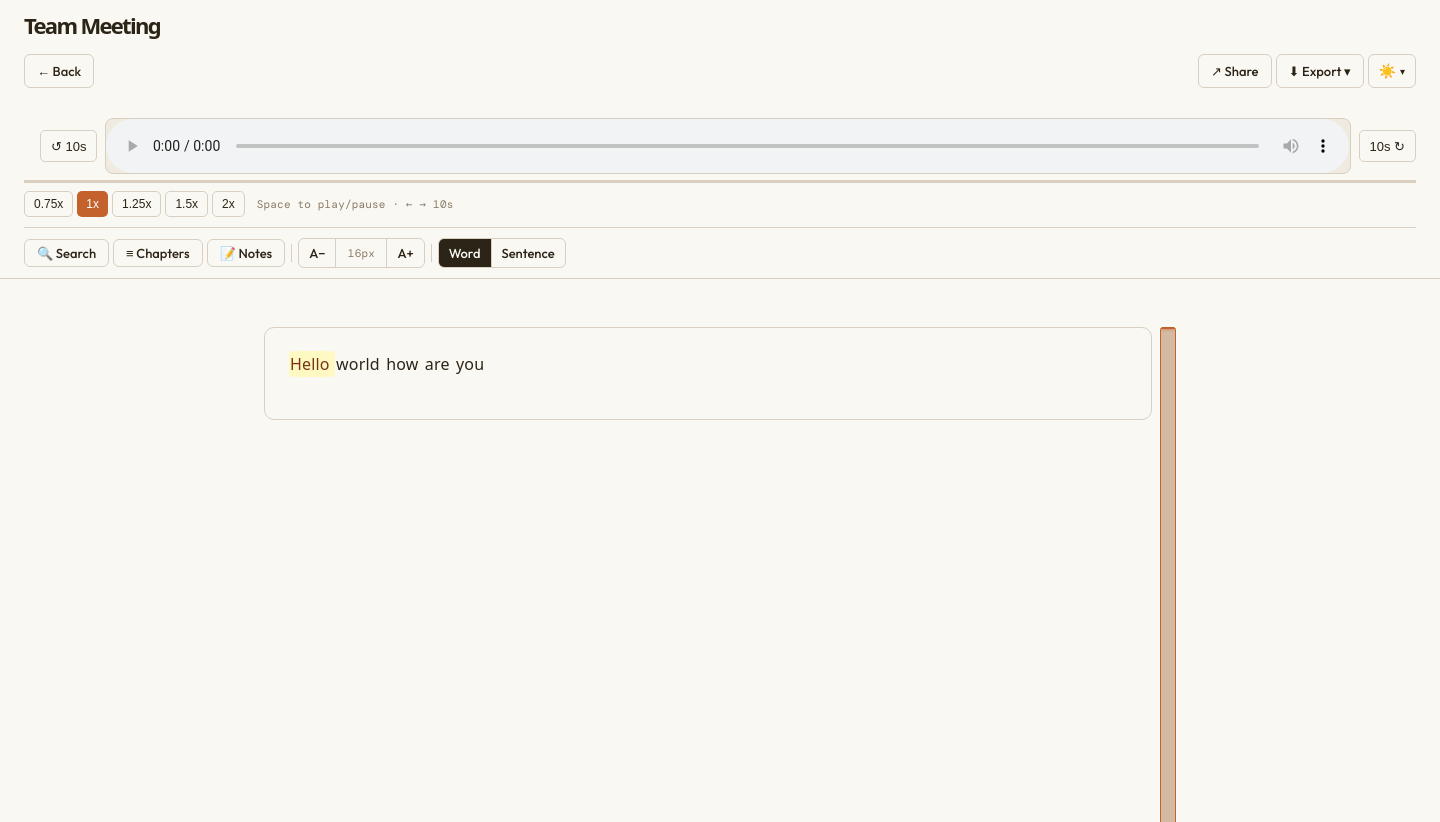
Test: search finds matching words
Check: the text "Hello" is shown, box [289,351,335,377]
Click the button "🔍 Search" at (67, 253), box [24,239,109,267]
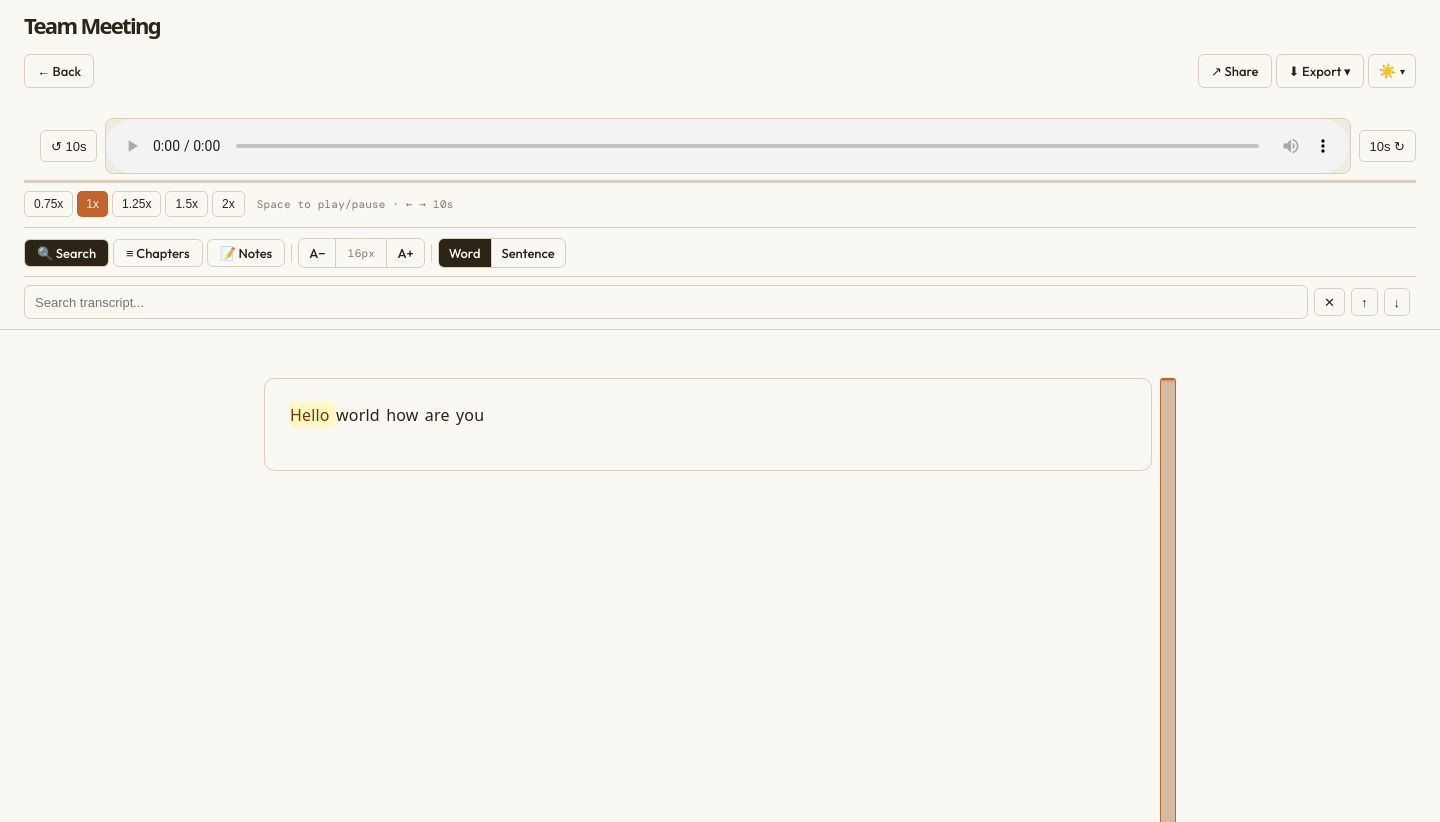
Type "hello" into the field with placeholder "Search transcript..." at (666, 302), box [24,285,1308,319]
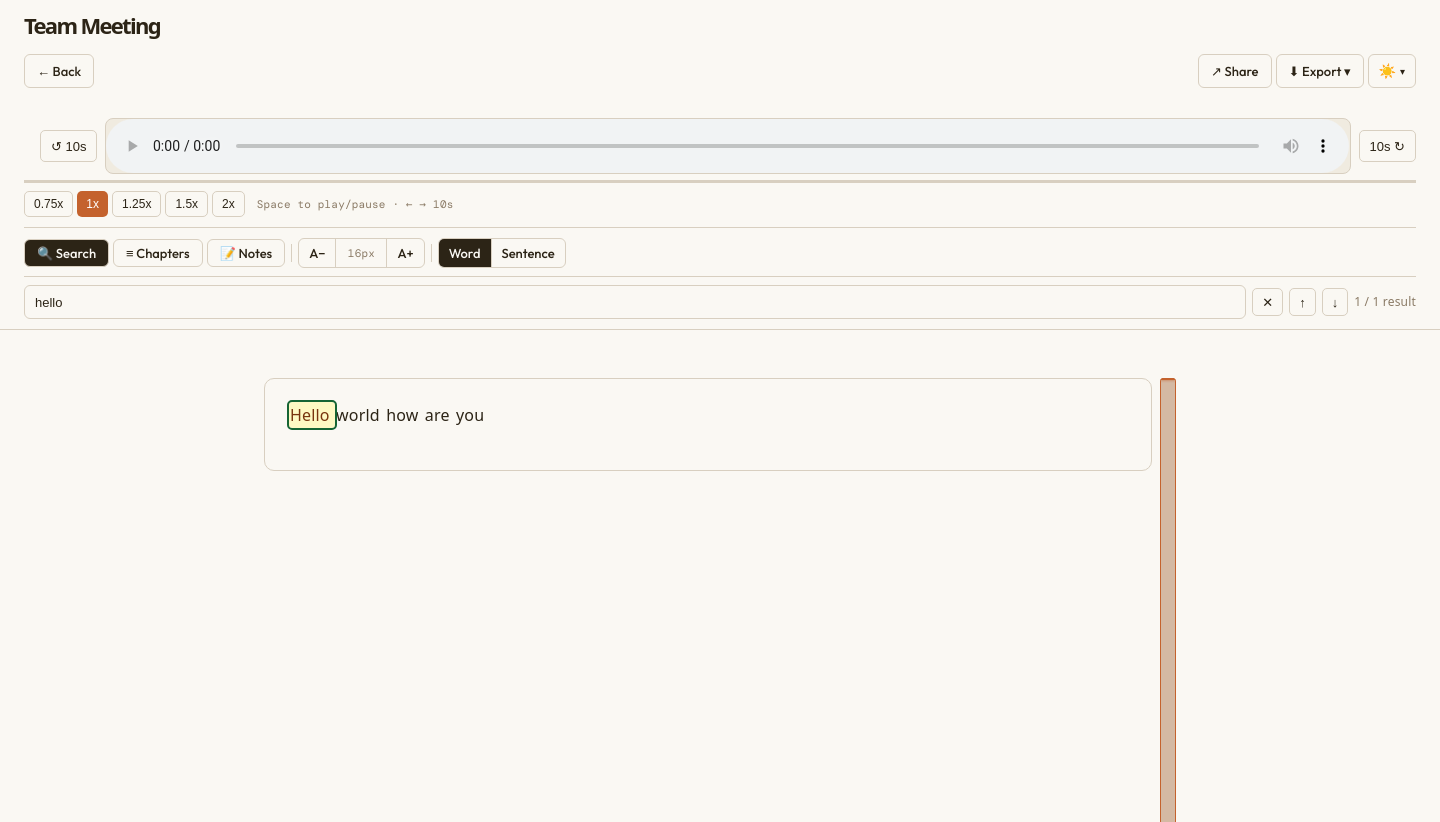
Check: the text "1 / 1 result" is shown, box [1354,289,1416,315]
